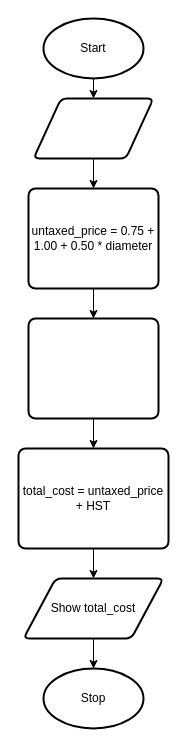
The diagram is 186 pixels wide and 746 high, and some of its shapes have lost their labels. Each missing label, with the centre of its shape:
Get diameter: (93,128)
HST = untaxed_price * 0.13: (93,368)
